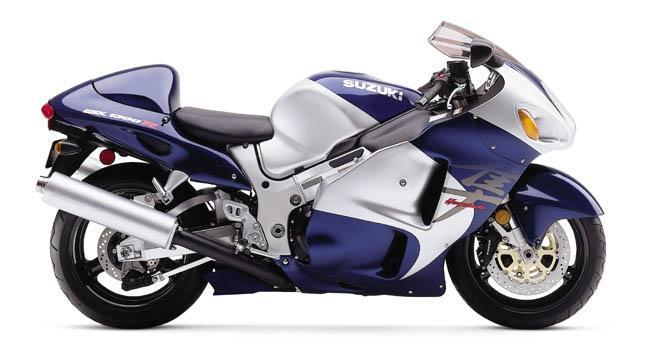Motorcycle: (28, 8, 647, 340)
